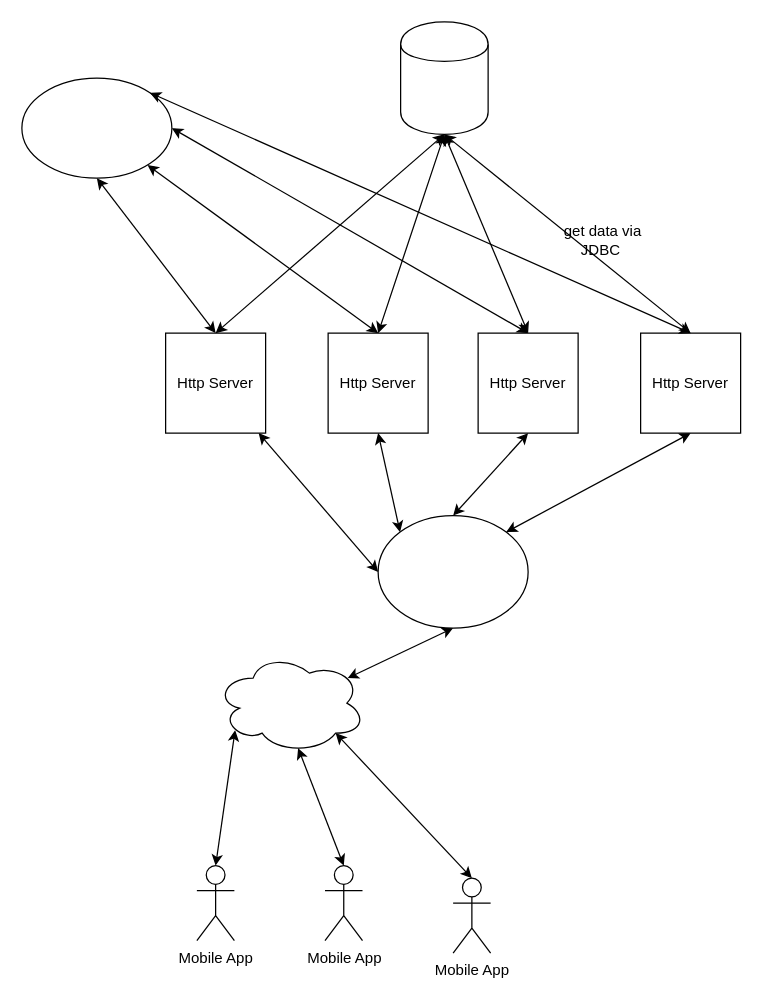
Some shapes in this 763 by 1001 pixel diagram are drawn without their labels. Here are the shapes that lost their labels. From the top down, the centre of each, then its label:
At (443,77): "Relational DB Cluster".
At (96,127): "DB Loading Balance Server".
At (452,571): "Loading Balance Server".
At (290,702): "network".
